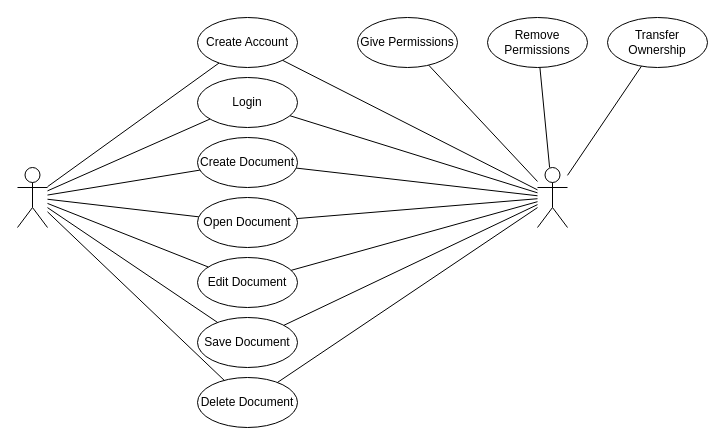
The diagram is 725 pixels wide and 445 high, and some of its shapes have lost their labels. Each missing label, with the centre of its shape:
Document Owner: pixel 552 197
User: pixel 32 197
